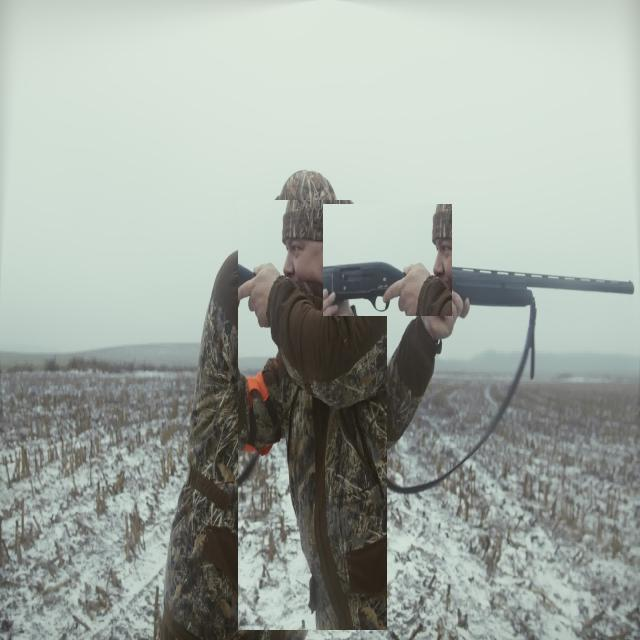poacher: (238, 200, 387, 630)
weapon: (323, 204, 452, 316)
